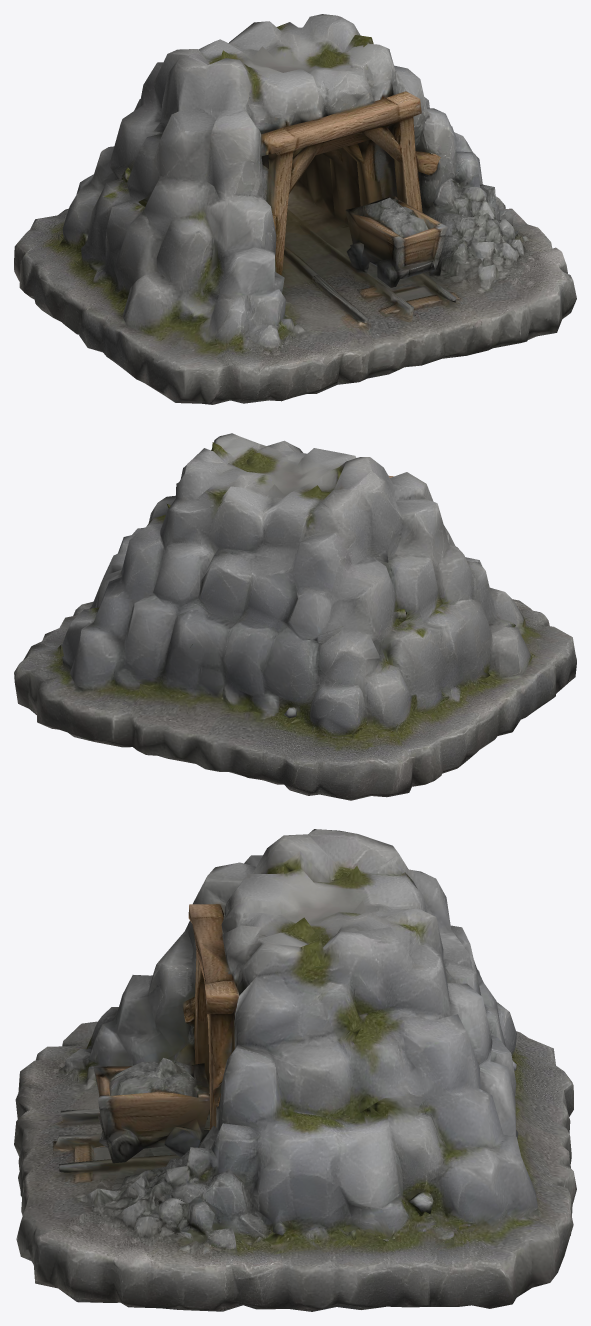
Rendered from mine_quarry.glb.
3 views of the same model, one above another, from view 1: azimuth 30°, elevation 25°; view 2: azimuth 150°, elevation 25°; view 3: azimuth 270°, elevation 25° (orthographic). The views are drawn at different scales.
Visible parts, largest first — view 1: tripo_node_c73536d5-26e4-481b-9410-1f2e815760d6; view 2: tripo_node_c73536d5-26e4-481b-9410-1f2e815760d6; view 3: tripo_node_c73536d5-26e4-481b-9410-1f2e815760d6.
Boxes of the visible parts, bbox=[...] form: tripo_node_c73536d5-26e4-481b-9410-1f2e815760d6: bbox=[14, 14, 576, 404]; tripo_node_c73536d5-26e4-481b-9410-1f2e815760d6: bbox=[14, 433, 576, 800]; tripo_node_c73536d5-26e4-481b-9410-1f2e815760d6: bbox=[14, 829, 576, 1311].
Bounding box in the file's own units: 1 × 0.5507 × 0.9045.
Materials: 1 (1 with a texture image).
